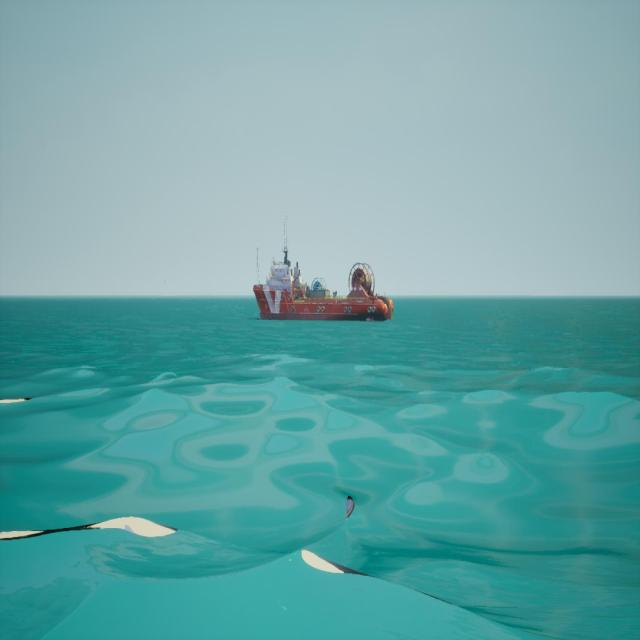tug boat: (252, 215, 393, 324)
